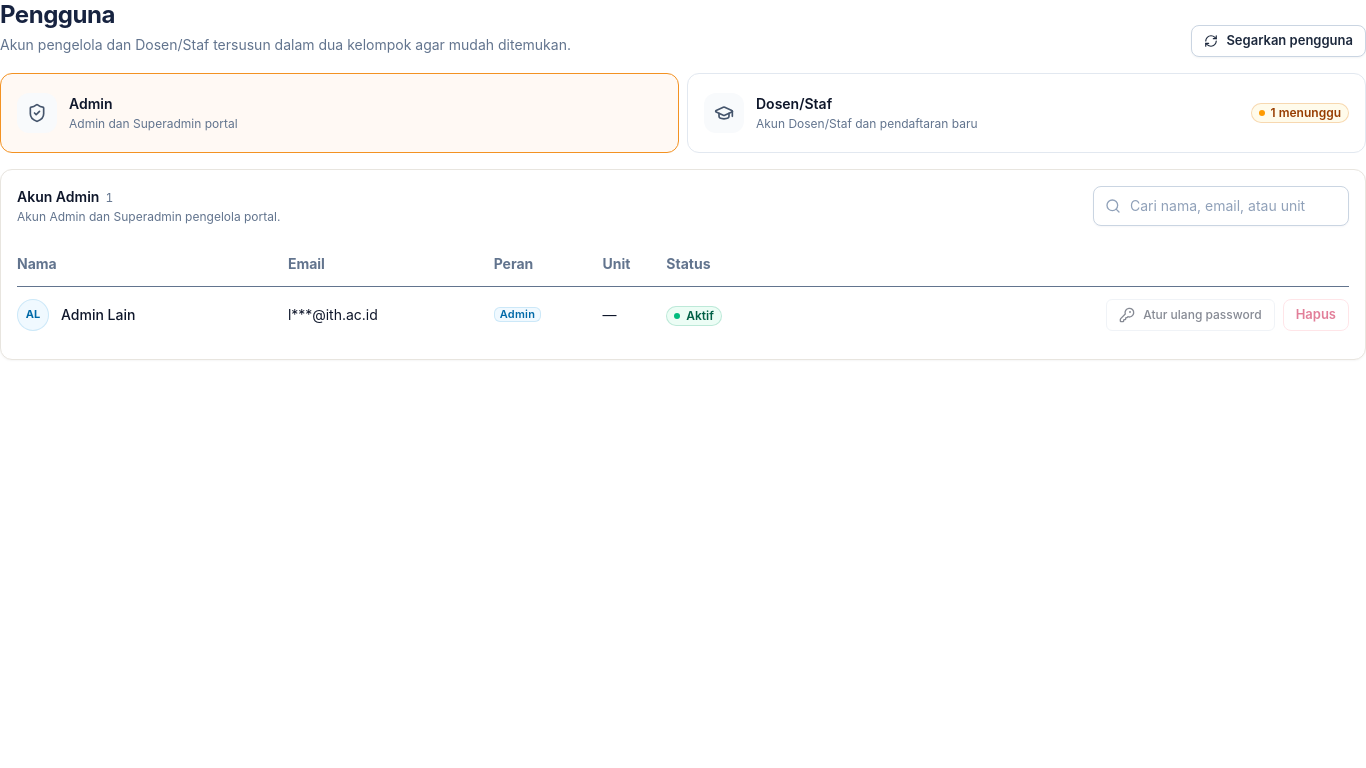
Halaman informasi Admin tetap terbuka dengan kontrol perubahan nonaktif › Admin dapat meninjau informasi akun, tetapi tidak dapat menyetujui atau mengelolanya
Click the button "Dosen/Staf Akun Dosen/Staf dan pendaftaran baru 1 menunggu": {"x": 724, "y": 113} [687,73,1365,153]
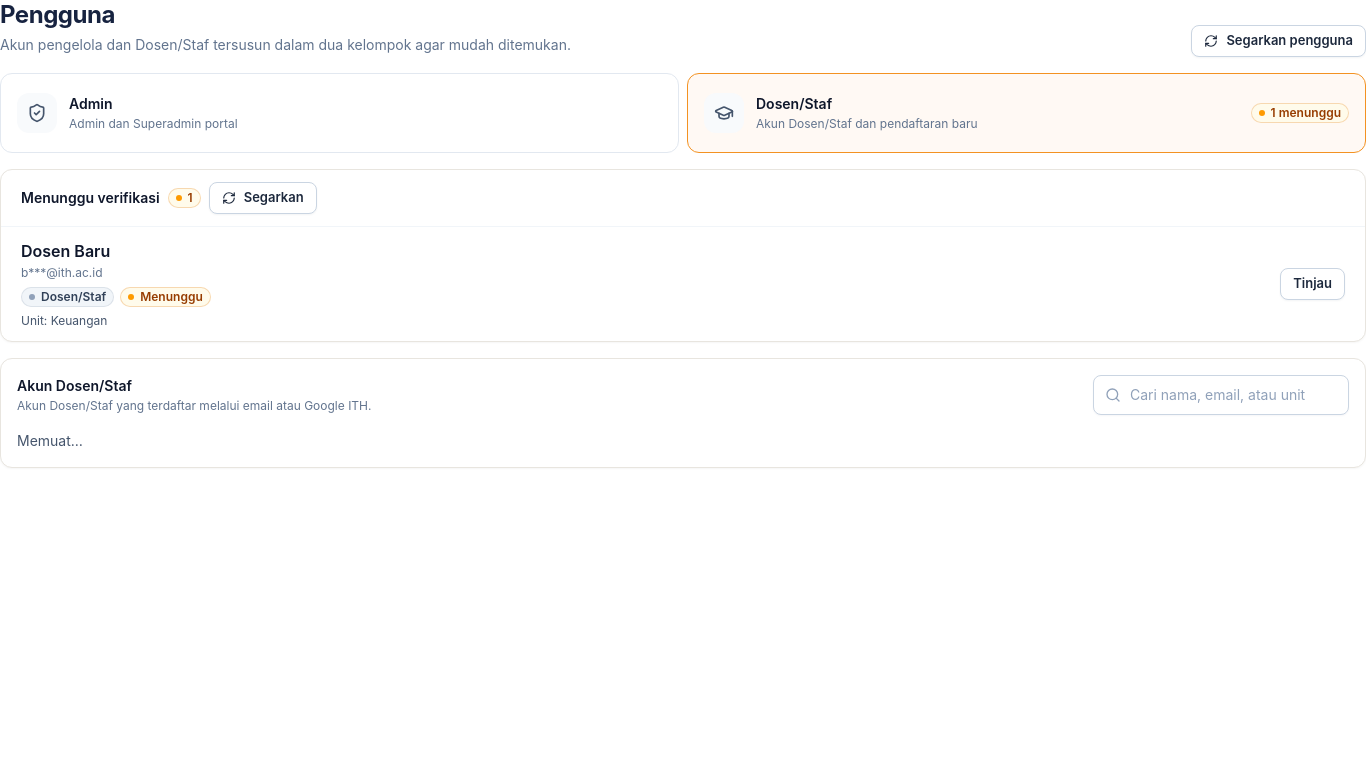
expect the text "Dosen Baru" is shown: met, box [21,241,110,261]
Click the button "Tinjau": {"x": 1313, "y": 284} [1280,268,1345,300]
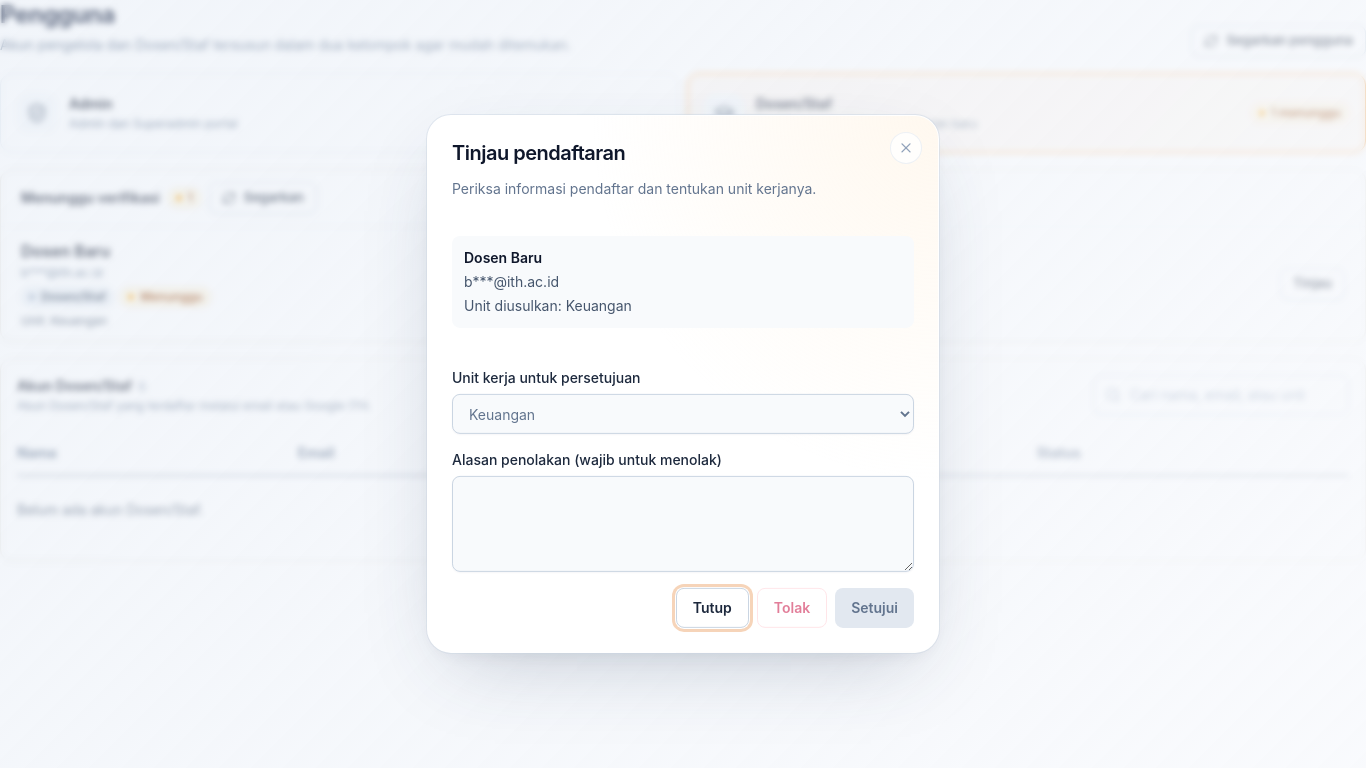
expect the button "Setujui" is disabled: met, box [835,588,914,628]
expect the dropdown labelled "Unit kerja untuk persetujuan" is disabled: met, box [452,394,914,434]
